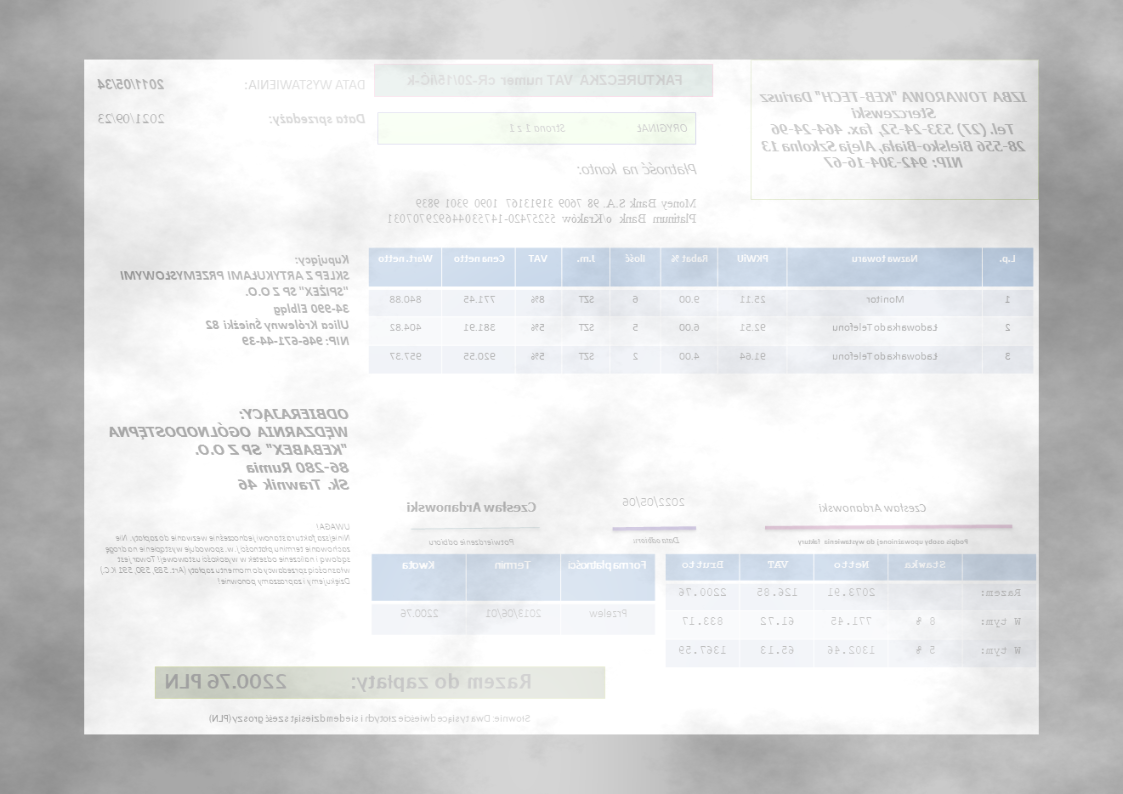Table: (366, 245, 1035, 376), (664, 552, 1038, 669), (370, 551, 657, 637)
TextBox: (758, 86, 1030, 173), (116, 250, 353, 349), (105, 406, 352, 494), (98, 519, 353, 588), (384, 194, 700, 226), (162, 670, 535, 694), (207, 711, 534, 727), (404, 70, 684, 88), (508, 118, 691, 136), (575, 159, 700, 179), (404, 497, 540, 515), (243, 75, 368, 93), (795, 535, 972, 547), (816, 498, 928, 515), (267, 110, 367, 128), (94, 75, 167, 93), (96, 110, 168, 127), (427, 536, 518, 548), (621, 494, 687, 510), (631, 534, 683, 546)
